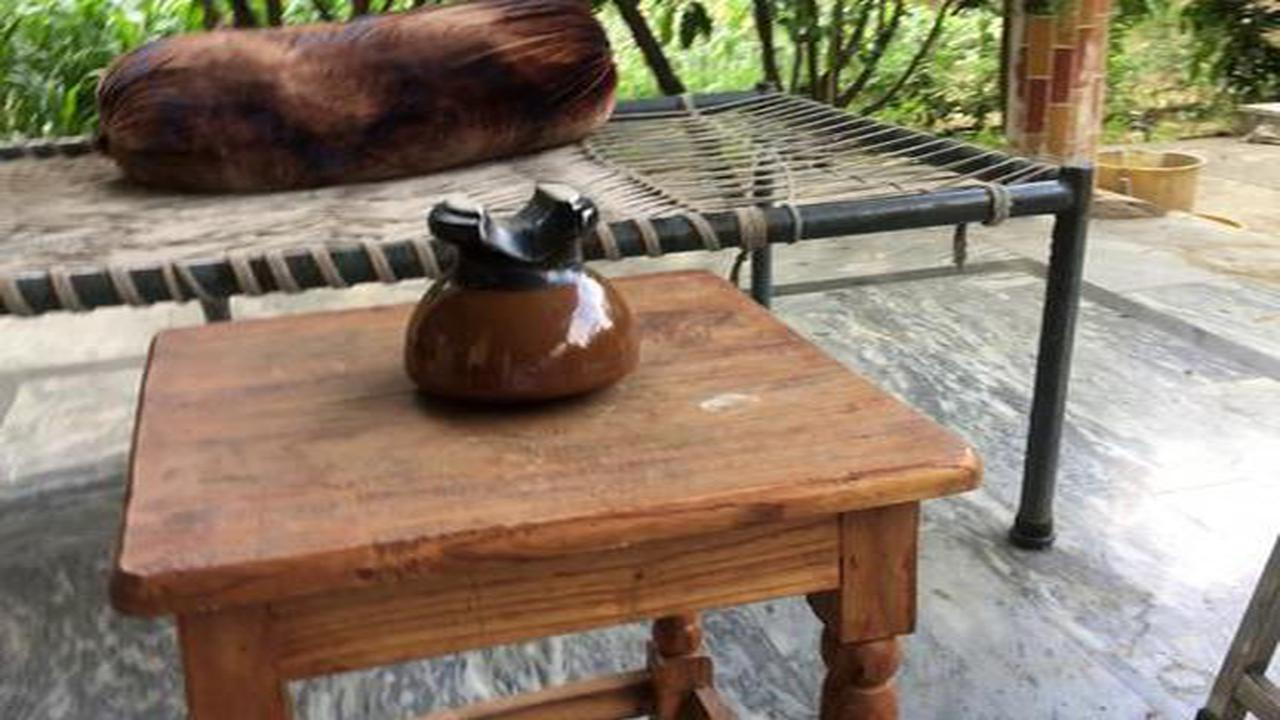insulator_pin: (397, 174, 650, 433)
